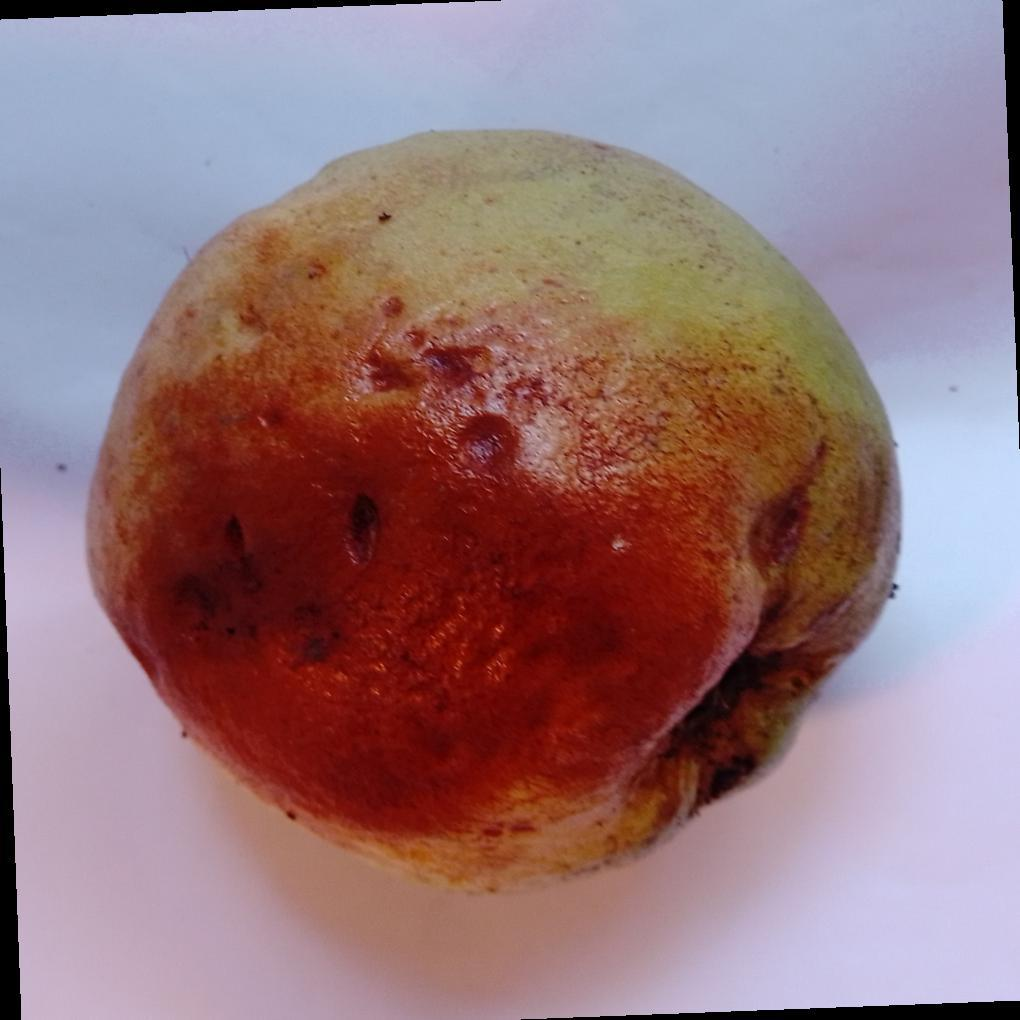FreshOrange: (83, 130, 904, 899)
